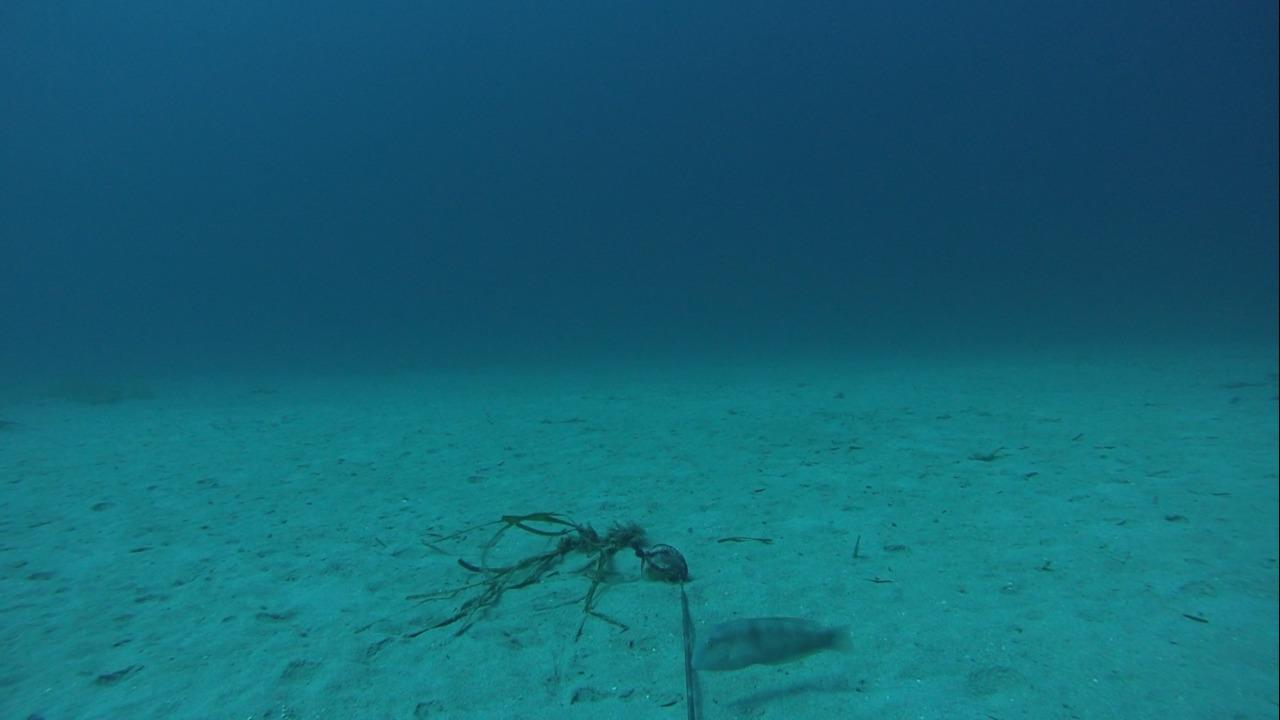raor: (689, 611, 854, 675)
